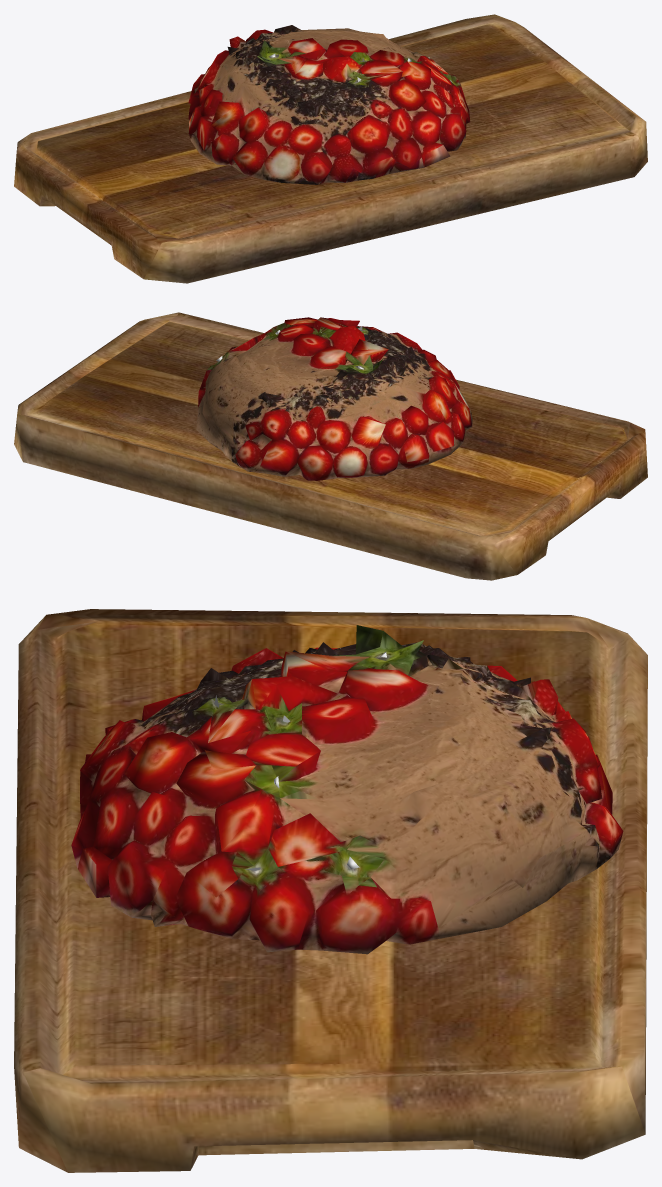
Rendered from feast_platter.glb.
3 views of the same model, one above another, from view 1: azimuth 30°, elevation 25°; view 2: azimuth 150°, elevation 25°; view 3: azimuth 270°, elevation 25° (orthographic). The views are drawn at different scales.
Parts seen in each view (by area): view 1: feast_platter; view 2: feast_platter; view 3: feast_platter.
Boxes of the visible parts, x1,y1,x2,y2 form: feast_platter: [14, 14, 647, 283]; feast_platter: [14, 312, 647, 580]; feast_platter: [14, 609, 647, 1172].
Size of the model in its own units: 0.4266 by 0.1028 by 0.2342.
2 materials, 2 textured.
